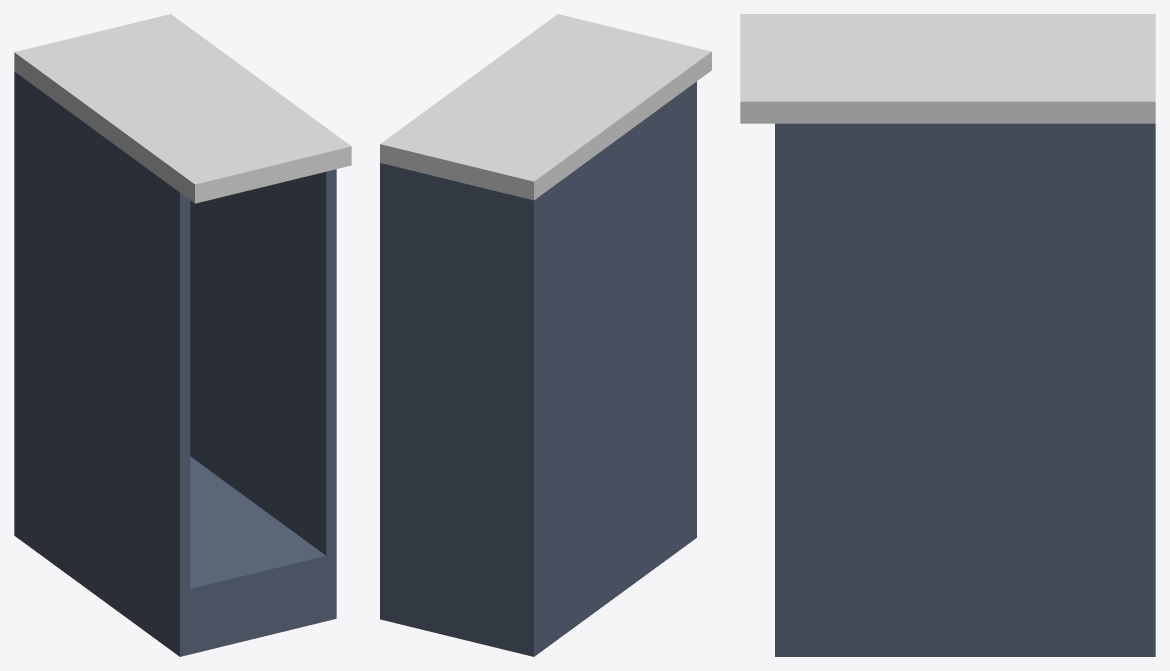
Rendered from Kitchen1_C4_03.fbx.
3 views of the same model, side by side, from view 1: azimuth 30°, elevation 25°; view 2: azimuth 150°, elevation 25°; view 3: azimuth 270°, elevation 25° (orthographic). The views are drawn at different scales.
Visible parts, largest first — view 1: Kitchen1_C4_03; view 2: Kitchen1_C4_03; view 3: Kitchen1_C4_03.
Boxes of the visible parts, bbox=[...] form: Kitchen1_C4_03: bbox=[14, 14, 351, 656]; Kitchen1_C4_03: bbox=[380, 14, 711, 656]; Kitchen1_C4_03: bbox=[740, 14, 1155, 656].
Size of the model in its own units: 30 by 88.5 by 60.
